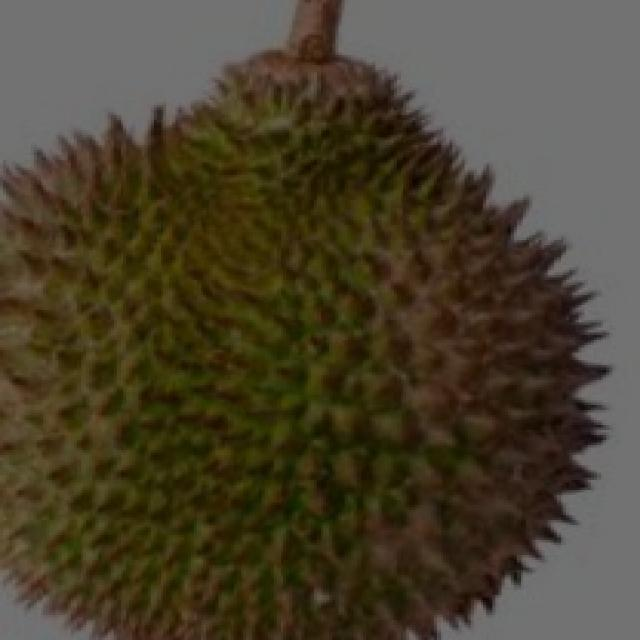fruit: (264, 202, 624, 638), (3, 270, 326, 640)
